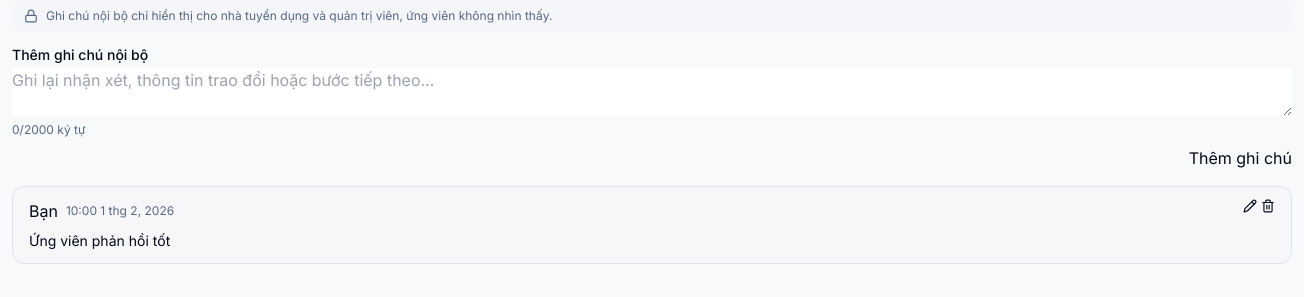
Test case: ApplicationNoteList › deletes a note after confirmation
Expected: the text "Ứng viên phản hồi tốt" is shown, [29,232,170,249]
Click the button named "Xóa ghi chú".
click(1268, 206)  # box [1261,199,1275,213]
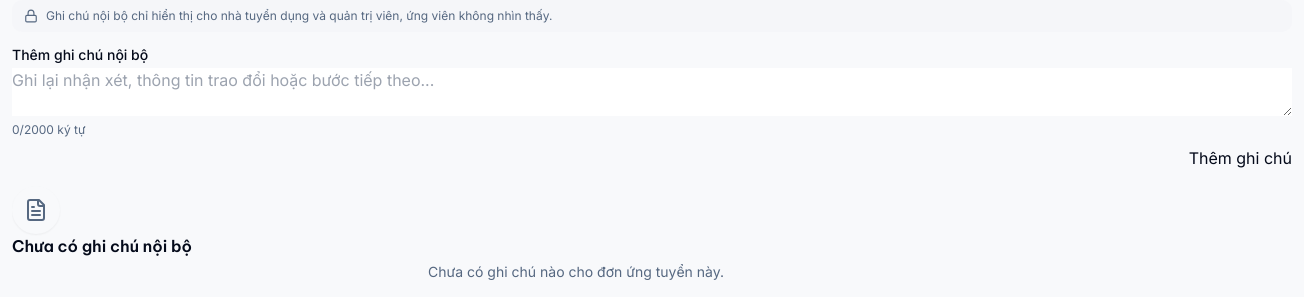
Expected: the text "Ứng viên phản hồi tốt" is gone
